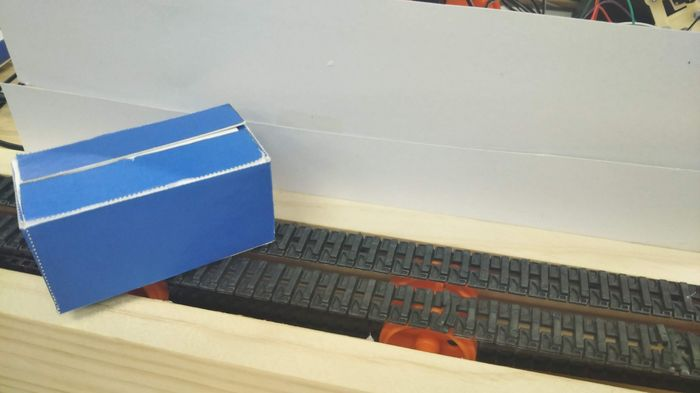box3: (9, 101, 277, 315)
